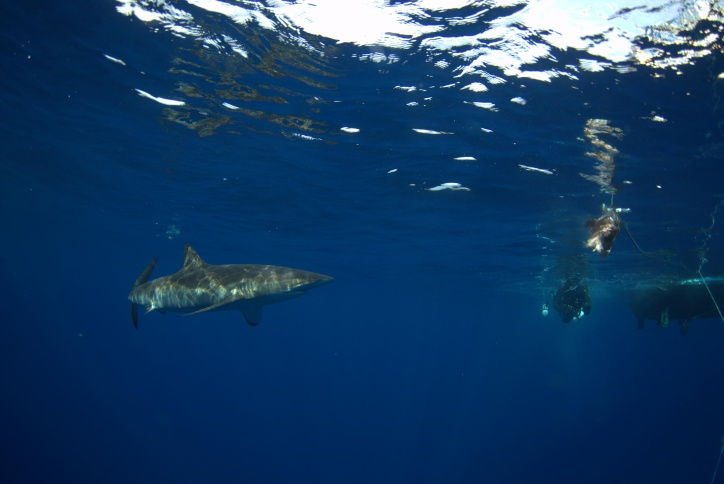Sedoso: (98, 237, 343, 336)
